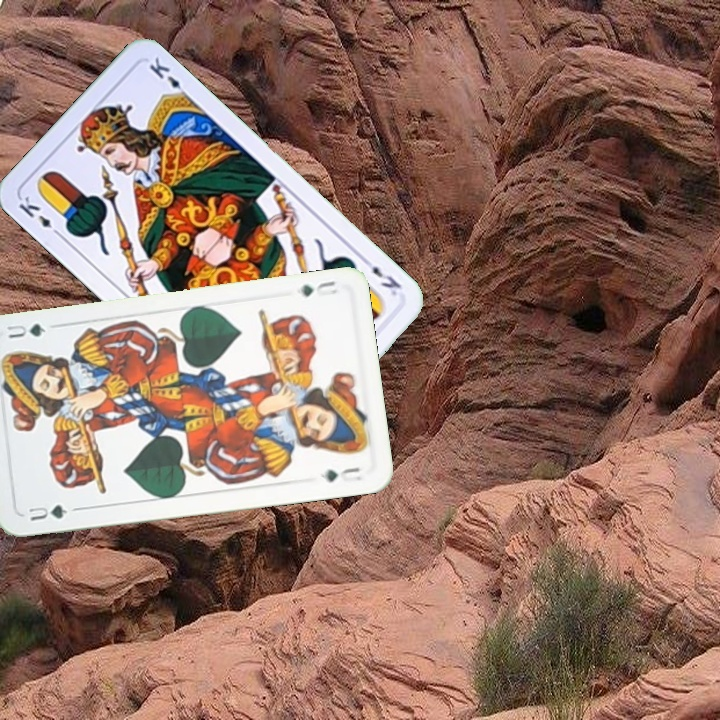EK: (14, 192, 65, 240), (358, 253, 404, 299)
GU: (24, 500, 71, 524), (296, 276, 341, 299)
